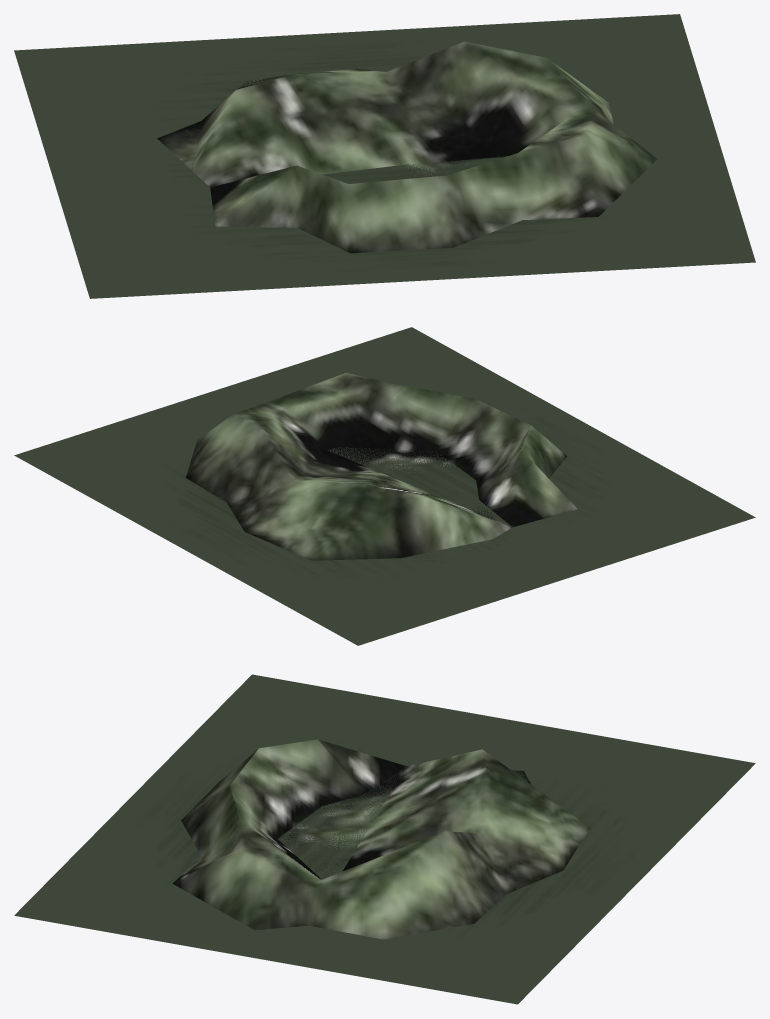
The model's file is pir_m_are_isl_pearl_worldmap.fbx.
3 renders of one model, top to bottom at view 1: azimuth 30°, elevation 25°; view 2: azimuth 150°, elevation 25°; view 3: azimuth 270°, elevation 25°, orthographic. The views are drawn at different scales.
Visible parts, largest first — view 1: sketchmark, top_mesh; view 2: sketchmark, top_mesh; view 3: sketchmark, top_mesh.
Boxes of the visible parts, box(x1,y1,x2,y2) form: sketchmark: box(14, 14, 755, 298); top_mesh: box(157, 41, 657, 253); sketchmark: box(14, 327, 755, 645); top_mesh: box(185, 372, 577, 562); sketchmark: box(14, 674, 755, 1004); top_mesh: box(172, 739, 590, 939).
Bounding box in the file's own units: 160 × 13.25 × 152.
1 material, 1 textured.
